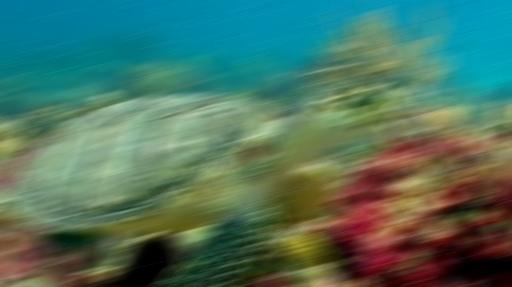Fish: (0, 85, 402, 286)
